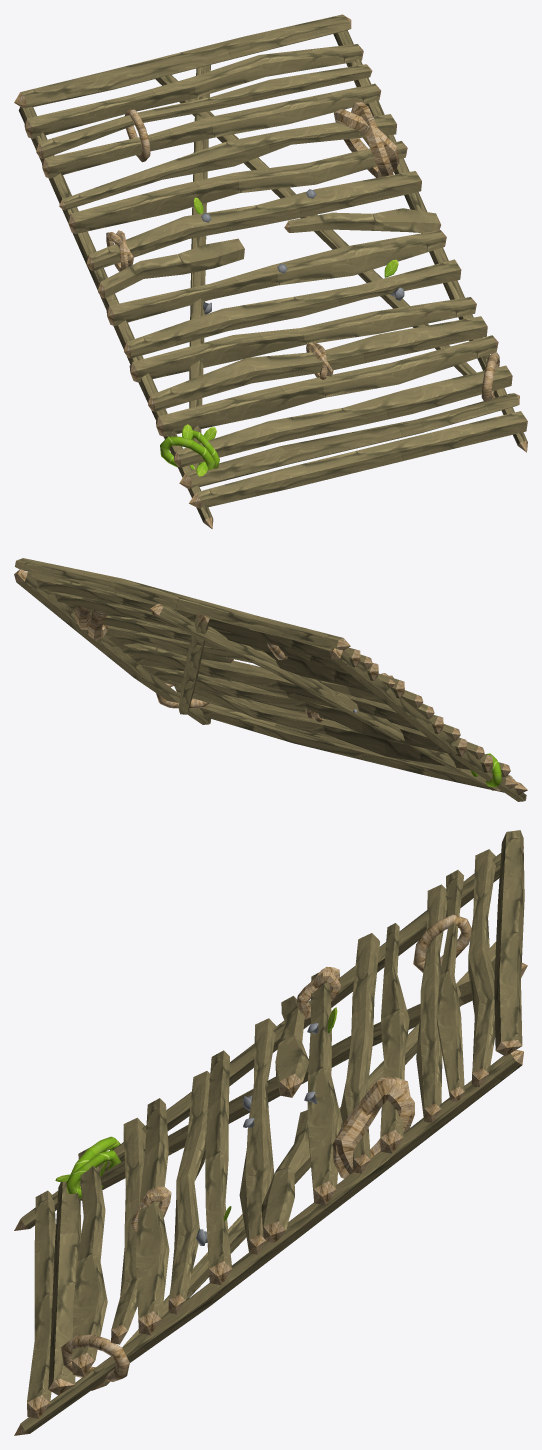
The model's file is Stairs.FBX.
The picture shows the model from 3 angles, top to bottom: view 1: azimuth 30°, elevation 25°; view 2: azimuth 150°, elevation 25°; view 3: azimuth 270°, elevation 25°; orthographic projection. The views are drawn at different scales.
Parts seen in each view (by area): view 1: Stairs; view 2: Stairs; view 3: Stairs.
Boxes of the visible parts, x1,y1,x2,y2 form: Stairs: (14, 14, 527, 528); Stairs: (14, 558, 527, 801); Stairs: (14, 830, 527, 1435).
Size of the model in its own units: 6.34 by 5.36 by 6.2.
